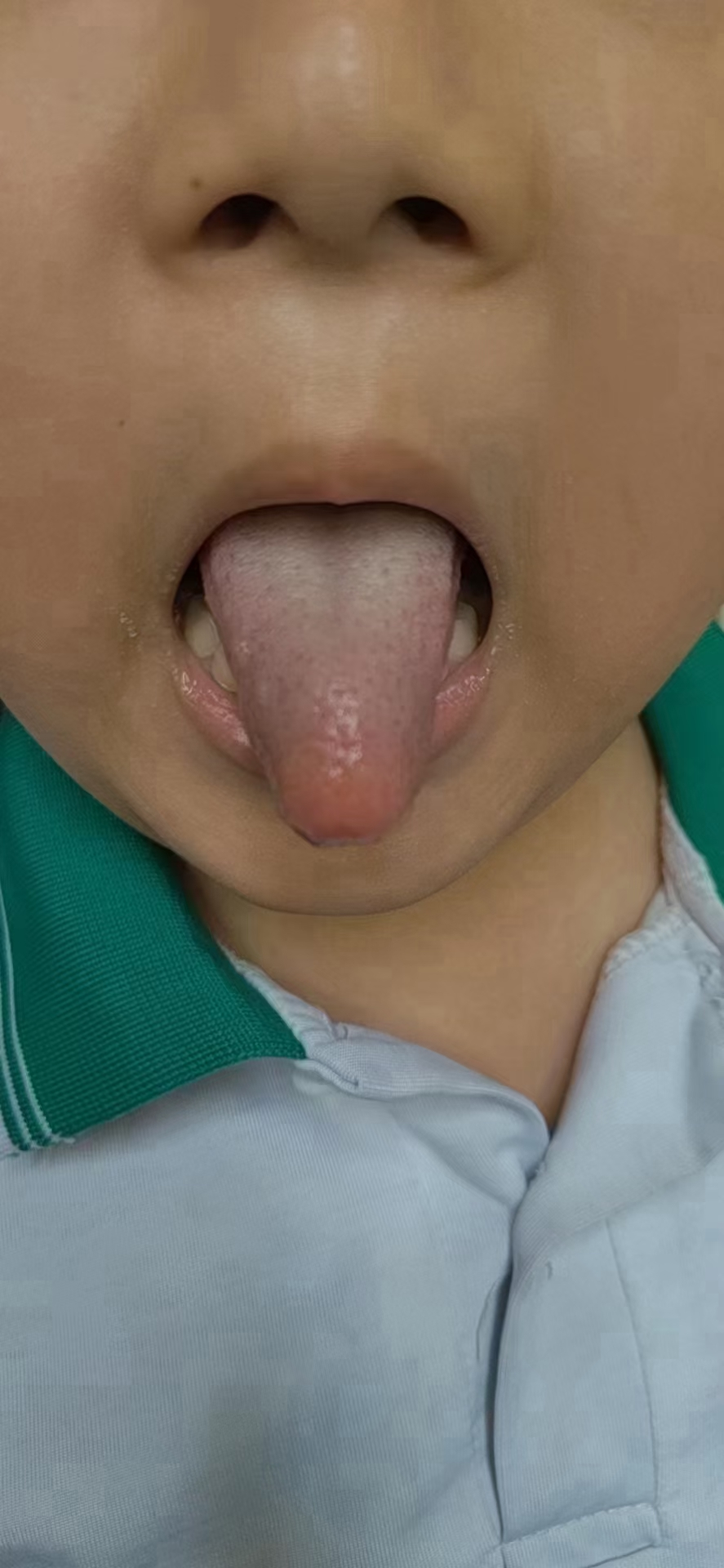baitaishe: (202, 512, 462, 846)
shoushe: (202, 512, 462, 846)
